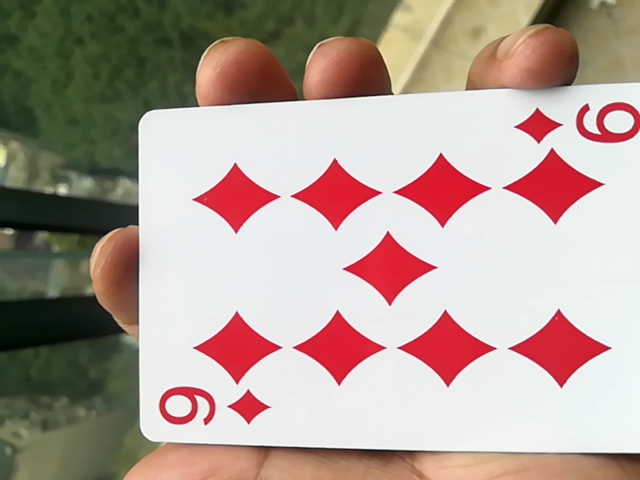fk 9: (126, 96, 637, 465)
